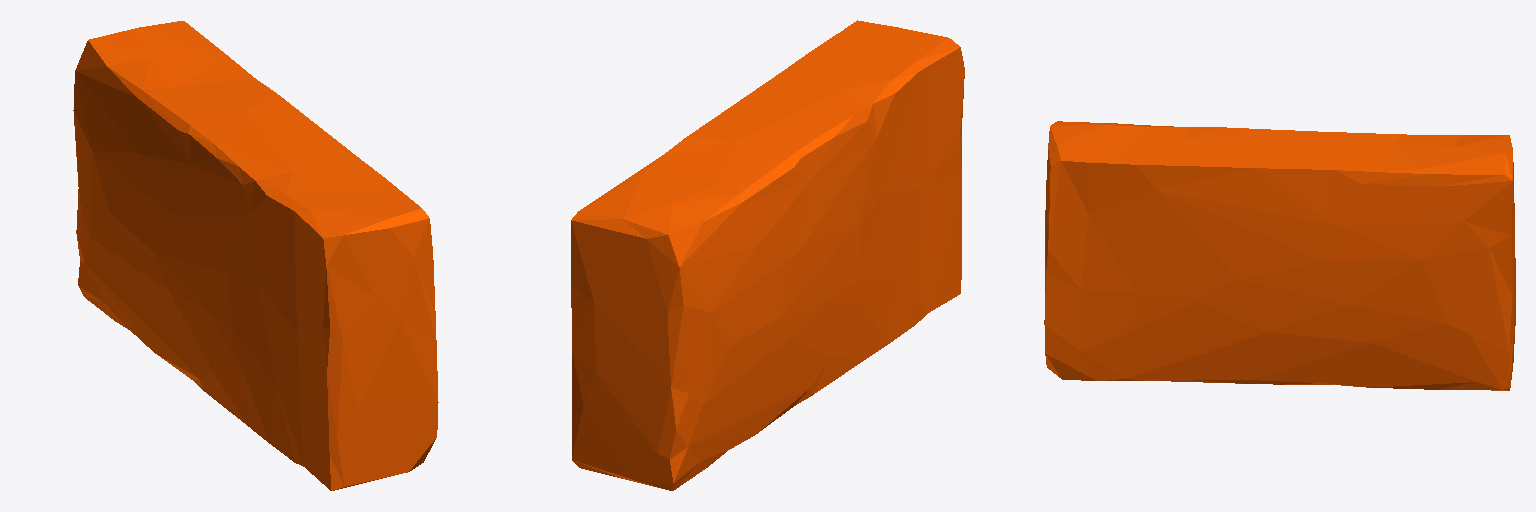
The robot description file, URDF, robot "suger_box_oriented":
<?xml version="1.0" ?>
<robot name="suger_box_oriented">
   <material name="obj_color">
      <color rgba="1.0 0.423529411765 0.0392156862745 1.0"/>
   </material>
   <link name="top">
      <inertial>
         <origin rpy="0.0001954561010358401 0.000655722739275355 0.0007829842500879259" xyz="0.0007255805462043894 0.006284811448787234 -0.001777212424288485"/>
         <mass value="0.24875"/>
         <inertia ixx="0.0007820065875097751" ixy="-2.368020839560864e-05" ixz="1.930675074156516e-06" iyy="0.0001965160534285587" iyz="6.837888412876385e-06" izz="0.000655640449460787"/>
      </inertial>
      <visual>
         <origin rpy="0 0 0" xyz="0 0 0"/>
         <geometry>
            <mesh filename="top_watertight_tiny.stl" scale="1 1 1"/>
         </geometry>
         <material name="obj_color"/>
      </visual>
      <collision>
         <origin rpy="0 0 0" xyz="0 0 0"/>
         <geometry>
            <mesh filename="top_watertight_tiny.obj" scale="1 1 1"/>
         </geometry>
      </collision>
   </link>
   <link name="bottom">
      <inertial>
         <origin rpy="1.633333333194242e-08 1.633333333194243e-08 1.633333333357667e-08" xyz="0.3464080000000008 0.3464080000000008 0.3464080000000008"/>
         <mass value="0.0009800000000000017"/>
         <inertia ixx="1.633333333248717e-08" ixy="5.447480642029219e-19" ixz="5.447480642029219e-19" iyy="1.633333333248717e-08" iyz="5.447480642029219e-19" izz="1.633333333248717e-08"/>
      </inertial>
      <visual>
         <origin rpy="0 0 0" xyz="0 0 0"/>
         <geometry>
            <mesh filename="bottom_watertight_tiny.stl" scale="1 1 1"/>
         </geometry>
         <material name="obj_color"/>
      </visual>
   </link>
   <link name="world"/>
   <joint name="world_to_base" type="fixed">
      <origin xyz="0 0 0"/>
      <axis xyz="0 0 0"/>
      <parent link="world"/>
      <child link="bottom"/>
   </joint>
   <joint name="rotation" type="revolute">
      <origin xyz="0 0 0"/>
      <axis xyz="0 0 -1"/>
      <parent link="bottom"/>
      <child link="top"/>
      <dynamics damping="1.0" friction="1.0"/>
      <limit effort="0.1" velocity="0.1" lower="0" upper="0.001"/>
   </joint>
</robot>

--- Render facts (derived) ---
The picture shows the robot from 3 angles, left to right: view 1: azimuth 30°, elevation 25°; view 2: azimuth 150°, elevation 25°; view 3: azimuth 270°, elevation 25°; orthographic projection.
Model suger_box_oriented with 3 links and 2 joints (1 revolute, 1 fixed), rooted at world, posed all joints at 0.
Visible links, largest first — view 1: top; view 2: top; view 3: top.
Boxes of the visible links, x1=… form: top: x1=73, y1=21, x2=438, y2=490; top: x1=571, y1=20, x2=964, y2=490; top: x1=1044, y1=121, x2=1515, y2=390.
Bounding box of the posed robot: 0.0482 × 0.1758 × 0.0929 m (x, y, z).
Meshes: 2 distinct files referenced, 1 mesh visuals loaded (1 binary STL); not drawn: 1 (reference not matched to a file when rendering).